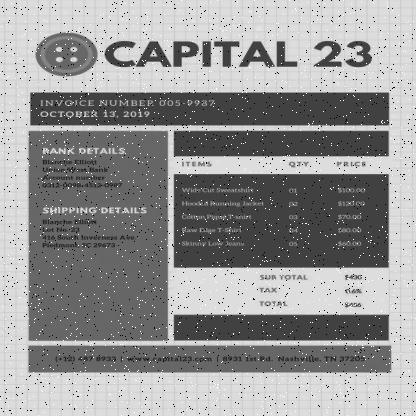Paragraph: (101, 37, 376, 71), (39, 204, 149, 250), (51, 352, 371, 366), (255, 272, 372, 310), (39, 146, 130, 190), (37, 98, 217, 120)
Table: (173, 156, 389, 251)
